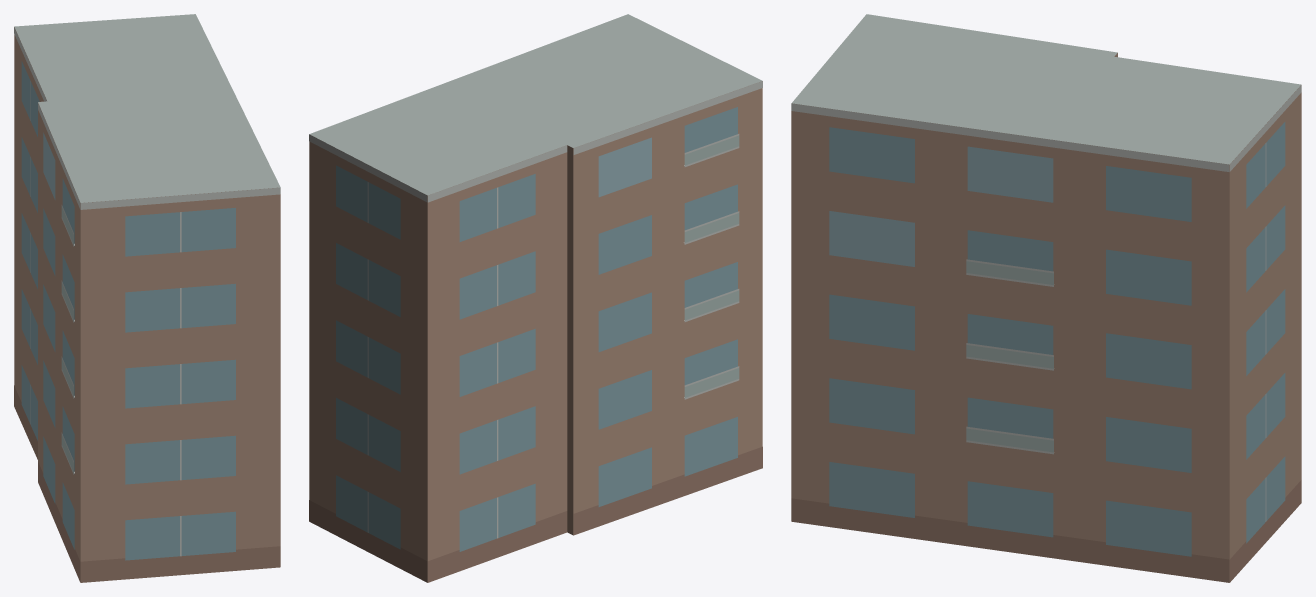
The model's file is survey-upis-32889797.glb.
The picture shows the model from 3 angles, left to right: view 1: azimuth 30°, elevation 25°; view 2: azimuth 150°, elevation 25°; view 3: azimuth 270°, elevation 25°; orthographic projection. The views are drawn at different scales.
Visible parts, largest first — view 1: survey-upis-32889797.tmp; view 2: survey-upis-32889797.tmp; view 3: survey-upis-32889797.tmp.
Part boxes in pixels (x1,y1,x2,y2): survey-upis-32889797.tmp: (14,14,280,582); survey-upis-32889797.tmp: (309,14,762,582); survey-upis-32889797.tmp: (791,14,1301,582).
Bounding box in the file's own units: 10.27 × 13.3 × 14.71.
